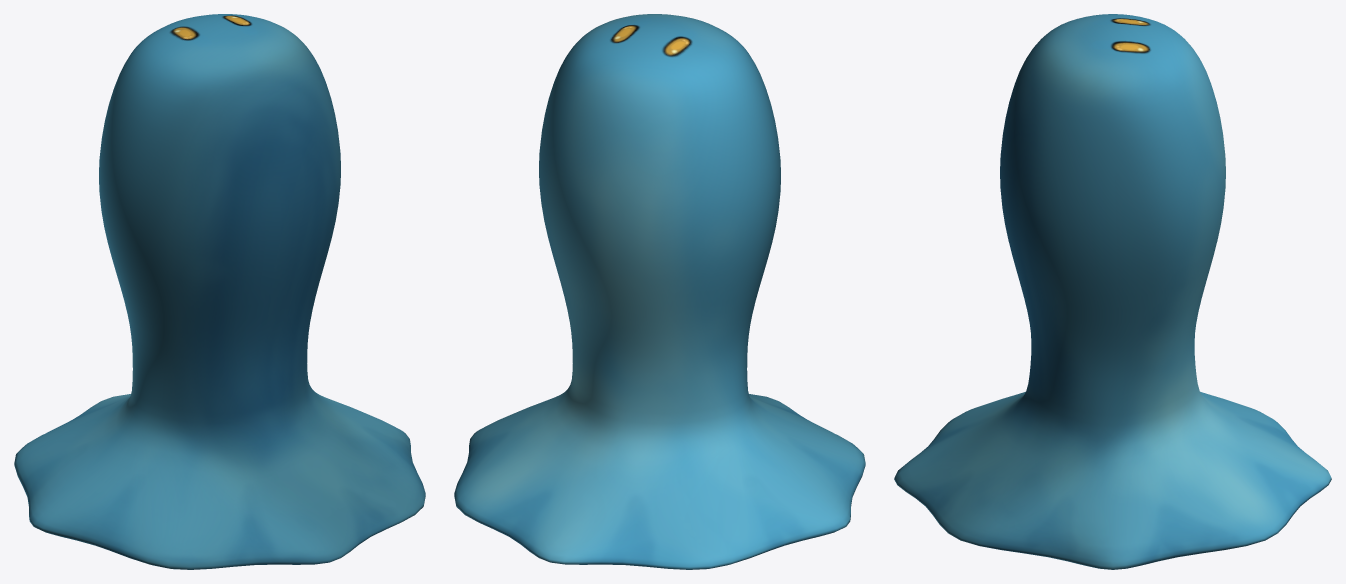
The model's file is Smile B 02.fbx.
3 views of the same model, side by side, from view 1: azimuth 30°, elevation 25°; view 2: azimuth 150°, elevation 25°; view 3: azimuth 270°, elevation 25° (orthographic).
Parts seen in each view (by area): view 1: Cube.007; view 2: Cube.007; view 3: Cube.007.
Boxes of the visible parts, x1,y1,x2,y2 form: Cube.007: (14, 14, 425, 569); Cube.007: (454, 14, 865, 569); Cube.007: (894, 14, 1331, 569).
Bounding box in the file's own units: 276 × 323 × 283.
